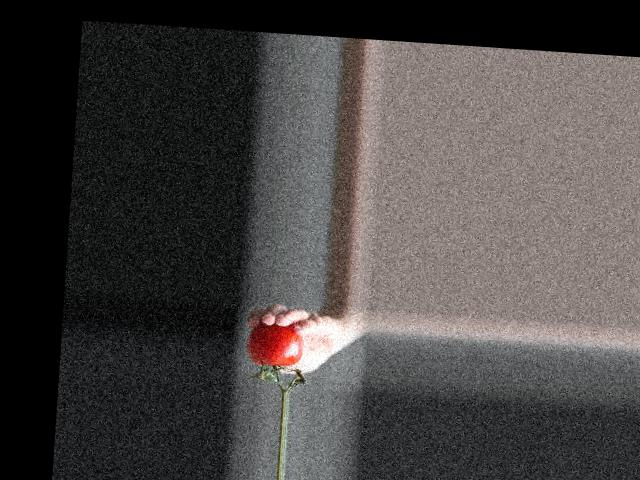tomato: (245, 321, 305, 369)
